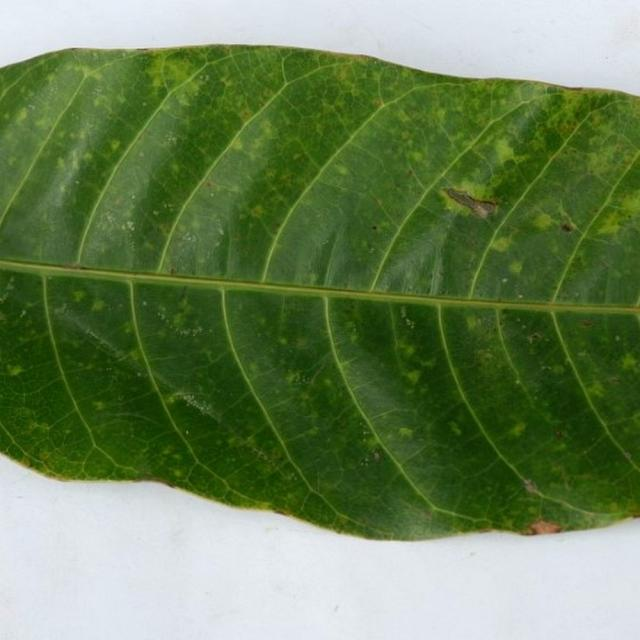Mango: (0, 45, 639, 540)
Powdery_Mildew: (443, 306, 533, 378), (375, 215, 452, 294), (480, 97, 565, 164), (39, 144, 93, 241), (241, 156, 312, 218), (0, 269, 63, 333), (162, 218, 225, 278), (214, 420, 283, 467), (71, 314, 134, 363), (495, 312, 553, 359), (443, 178, 504, 215), (310, 225, 339, 290), (143, 57, 190, 95), (406, 157, 437, 198), (300, 352, 335, 387), (172, 392, 219, 418), (592, 205, 630, 236), (528, 206, 561, 239), (76, 63, 110, 85), (492, 137, 518, 164), (614, 192, 640, 219), (288, 369, 318, 387), (526, 520, 562, 535), (205, 179, 241, 193), (254, 118, 275, 141), (135, 475, 175, 487), (582, 381, 606, 400), (490, 235, 513, 252), (399, 305, 415, 328), (619, 353, 638, 371), (444, 187, 465, 203), (1, 279, 16, 301), (397, 343, 417, 359), (248, 203, 268, 219), (172, 313, 188, 331), (522, 478, 539, 494), (508, 421, 526, 436), (13, 107, 28, 125), (6, 363, 25, 377), (508, 260, 524, 276), (404, 370, 421, 385), (229, 137, 245, 152), (71, 289, 88, 303), (162, 132, 178, 146), (407, 150, 424, 163), (90, 299, 107, 312), (284, 371, 299, 385), (107, 139, 121, 153), (449, 422, 463, 436), (348, 54, 376, 61), (397, 427, 414, 438), (239, 108, 253, 121), (363, 436, 378, 448), (335, 164, 349, 176), (560, 221, 575, 232), (560, 85, 587, 91), (55, 157, 66, 171), (421, 509, 434, 520), (182, 232, 195, 243), (92, 401, 106, 411), (274, 509, 290, 517), (308, 273, 319, 284), (605, 376, 621, 383), (277, 336, 288, 346), (628, 507, 639, 517), (39, 451, 51, 460), (579, 320, 594, 327), (373, 98, 383, 108), (165, 396, 176, 405), (125, 220, 134, 231), (21, 456, 32, 465), (623, 451, 633, 460), (480, 527, 494, 533), (610, 502, 619, 511), (173, 469, 183, 477), (372, 451, 380, 461), (555, 429, 563, 438), (163, 202, 173, 209), (169, 267, 177, 275), (206, 181, 214, 188), (218, 228, 224, 235), (368, 246, 374, 253), (20, 310, 26, 317), (153, 210, 159, 216), (214, 241, 220, 247), (364, 430, 370, 436), (371, 225, 377, 230), (616, 335, 621, 341), (142, 300, 147, 306), (635, 513, 640, 519), (139, 152, 144, 157), (502, 278, 507, 283), (408, 285, 413, 290), (142, 102, 147, 106), (75, 180, 79, 185), (131, 194, 135, 199), (210, 192, 214, 197), (185, 430, 189, 435), (518, 294, 523, 298), (574, 292, 579, 296)
